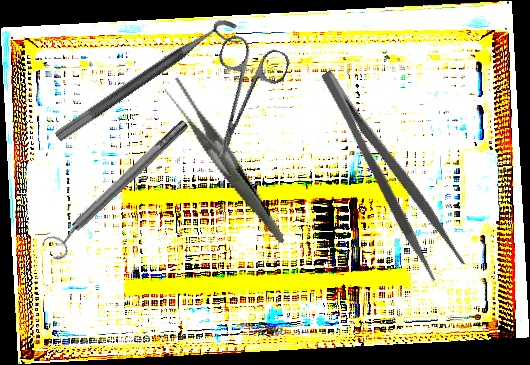Dressing Forceps: (315, 57, 467, 284), (162, 61, 285, 263)
Fixation Ring: (53, 13, 246, 157), (38, 113, 197, 264)
Iris Scissors: (185, 32, 293, 171)
